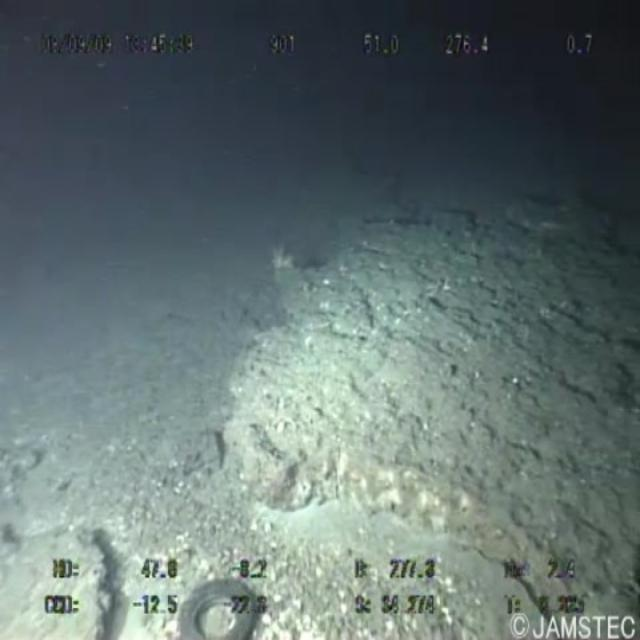Rubber: (167, 557, 289, 640)
